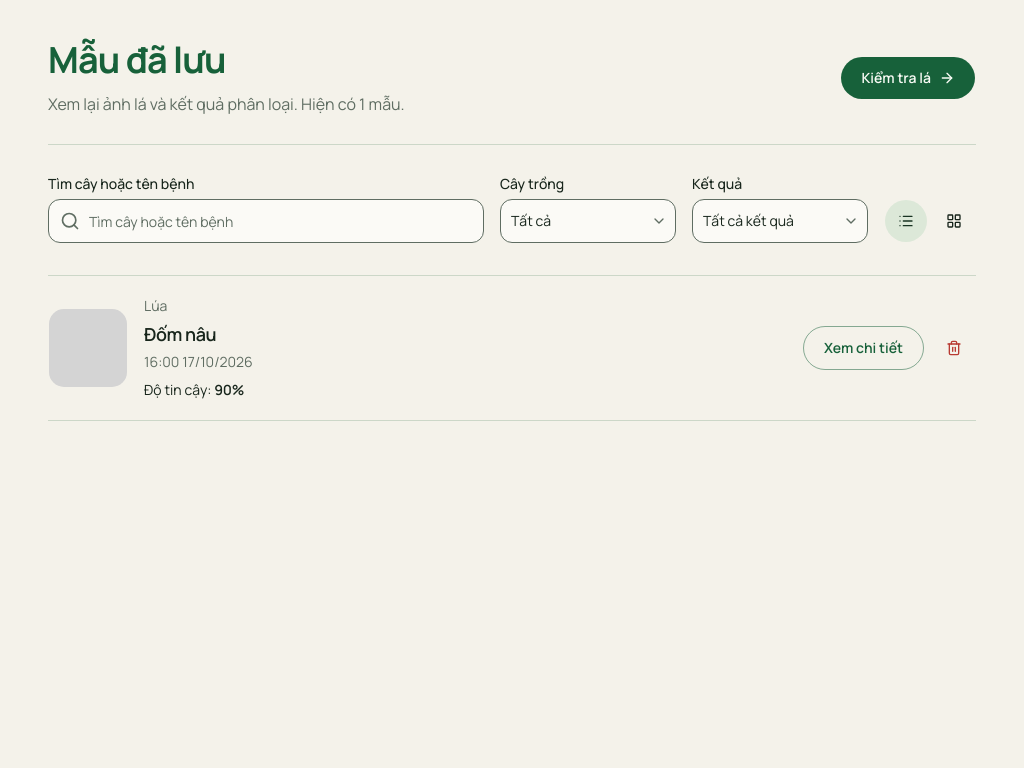
Test: HistoryPage interactions › cancels deletion without deleting and confirms exactly the selected ID
Click the button named "Xóa kết quả Đốm nâu" at (954, 348), box [932,326,976,370]
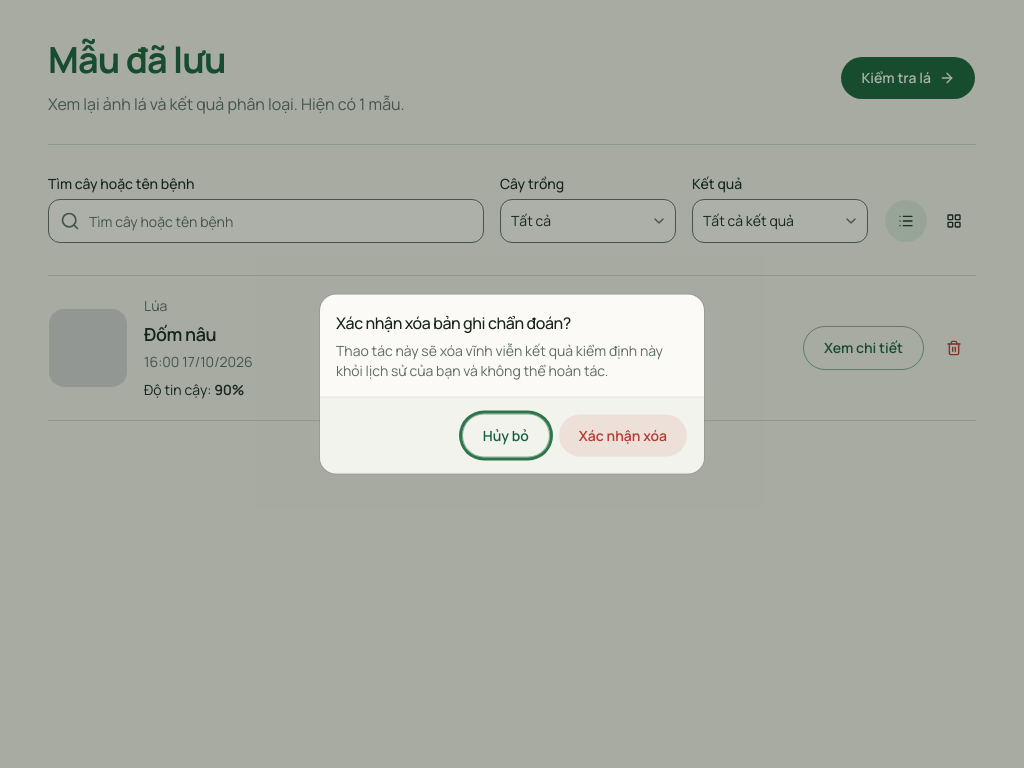
Expected: the dialog is shown, [320,294,704,474]
Click the button "Hủy bỏ" at (506, 436), box [462,414,550,458]
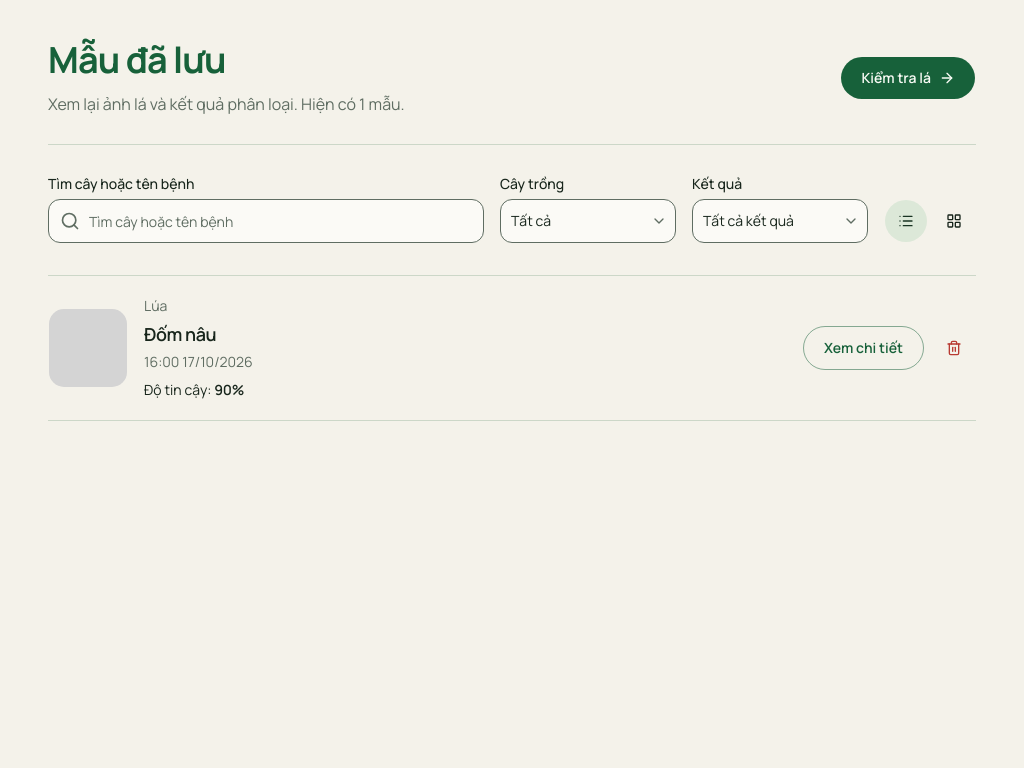
Click the button named "Xóa kết quả Đốm nâu" at (954, 348), box [932,326,976,370]
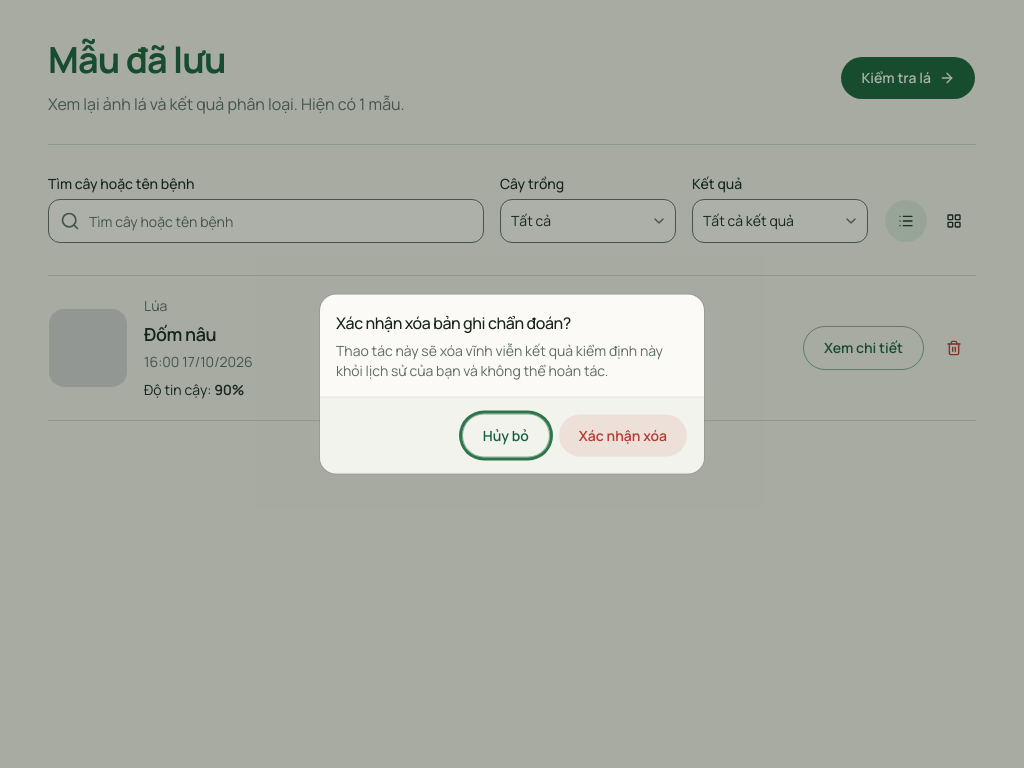
Click the button "Xác nhận xóa" at (623, 436), box [558,414,688,458]
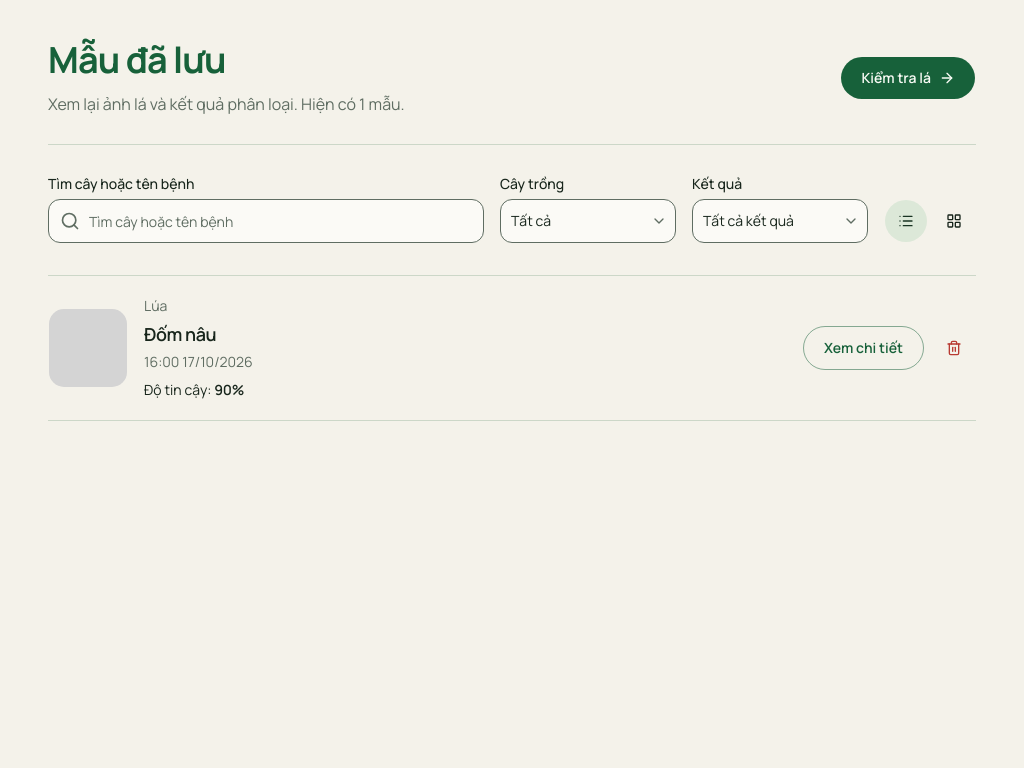
Expected: the dialog is gone
